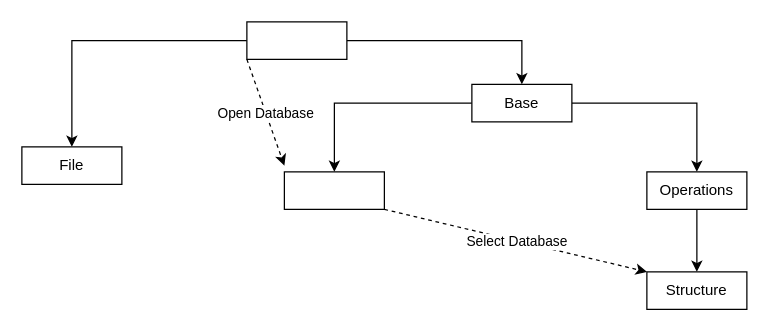
This 769x331 diagram has some shape labels left out. Each missing label, with the centre of its shape:
"DatabaseList" goes at [333,190].
"gma_main" goes at [296,40].
